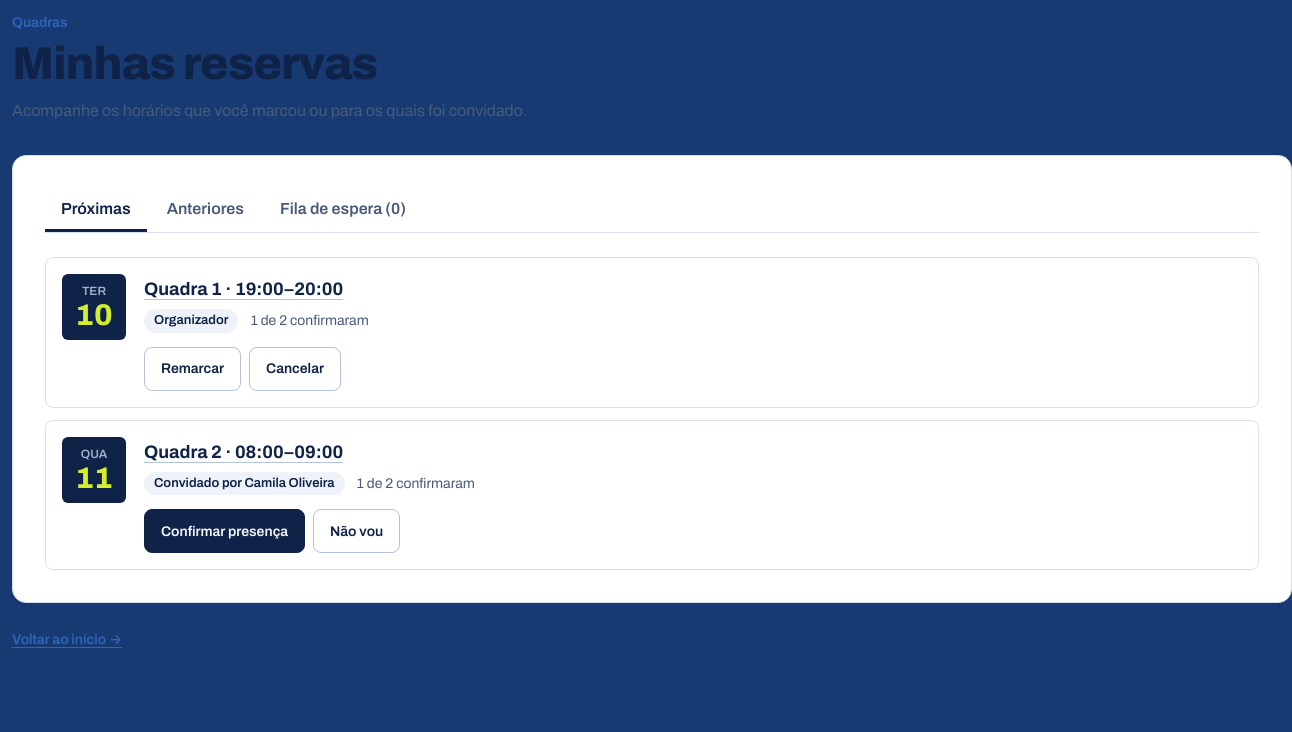
it: BookingsPage › Anteriores mostra "Concluída" e "Cancelada"
Expected: the link "Quadra 1 · 19:00–20:00" is shown, [144,279,343,299]
Click the tab "Anteriores" at (205, 210), box [151,188,260,232]
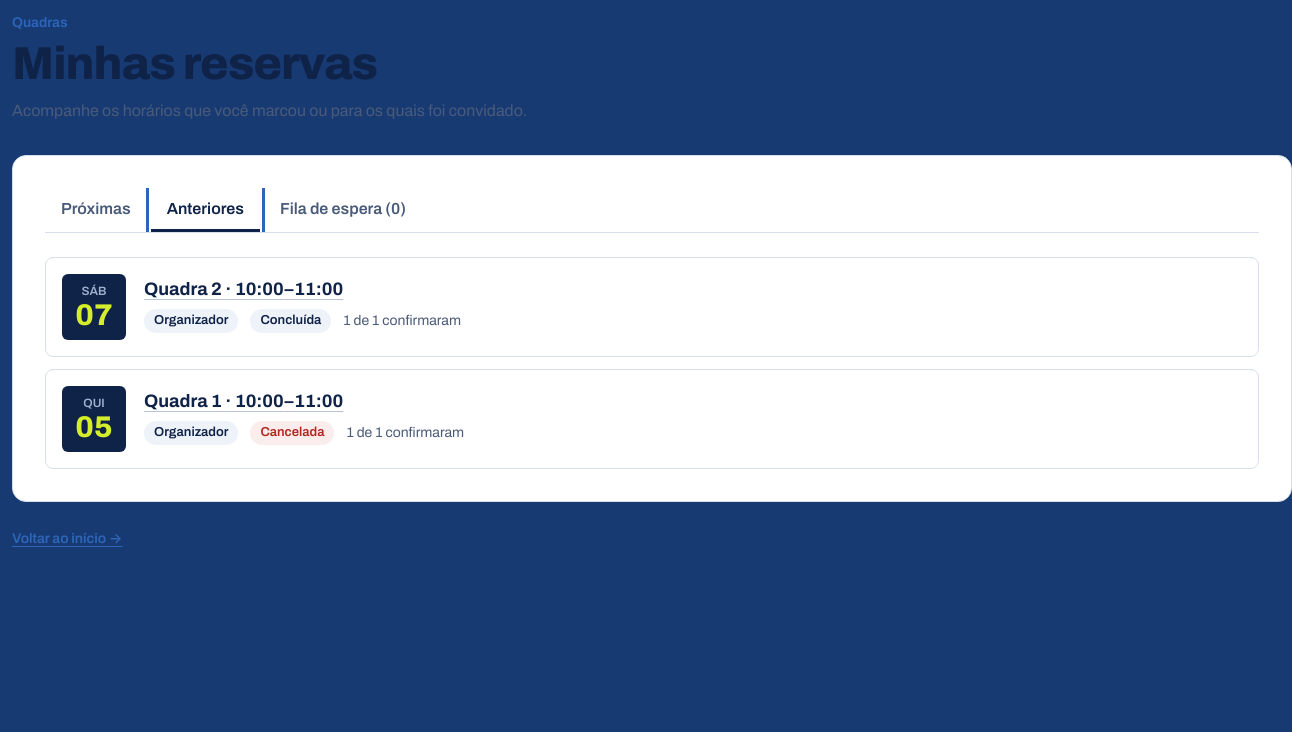
Now the text "Concluída" is shown, box [250,309,331,333]
Now the text "Cancelada" is shown, box [250,421,334,445]
Now the link "Quadra 1 · 19:00–20:00" is gone
